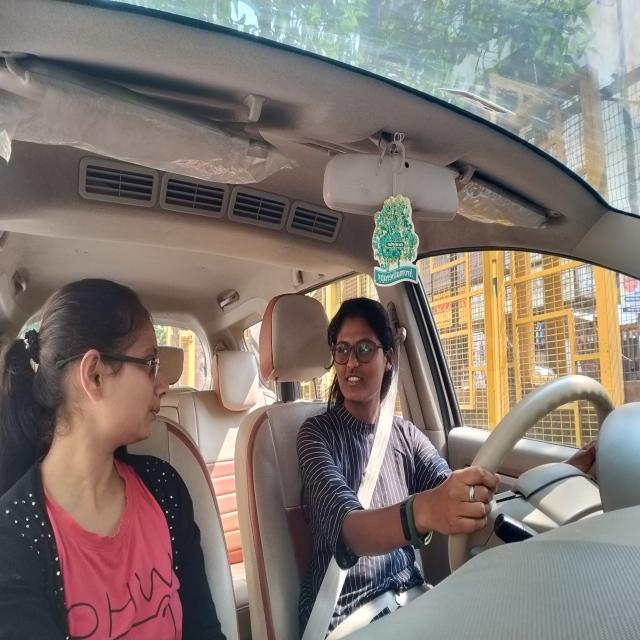LeftRight: (332, 293, 396, 432)
person: (43, 270, 169, 472)
talking: (345, 372, 364, 389)
